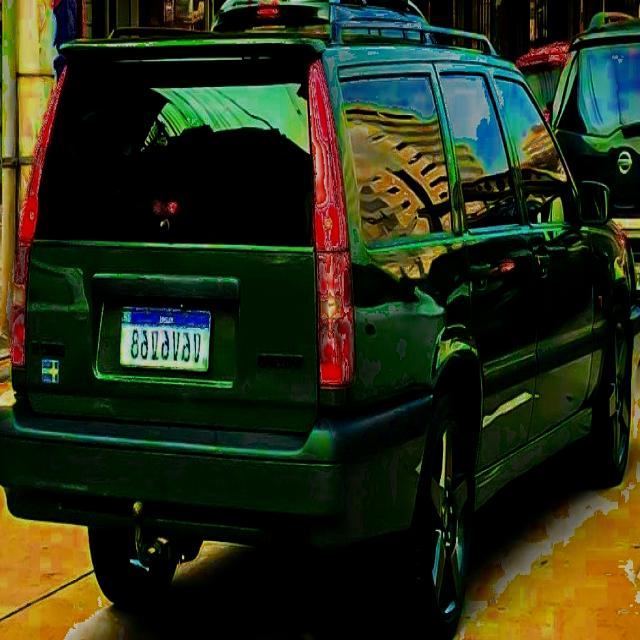green: (0, 34, 631, 600)
